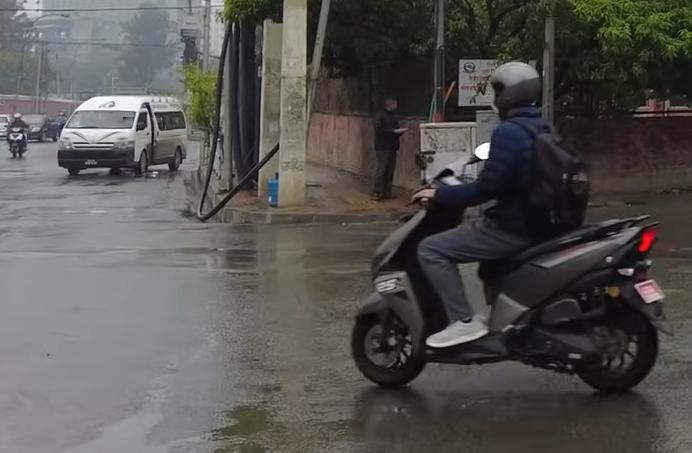micro_bus: (53, 89, 189, 177)
scooter: (347, 137, 687, 401), (4, 123, 28, 160)
